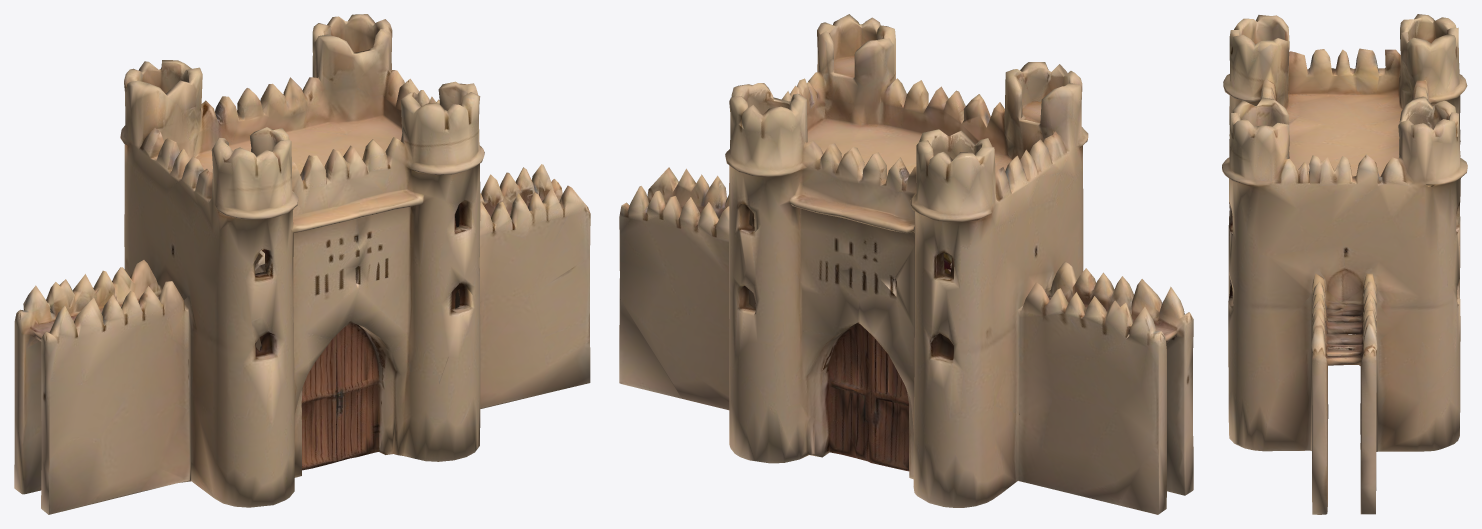
Rendered from fort_m_desert_gate.glb.
The picture shows the model from 3 angles, left to right: view 1: azimuth 30°, elevation 25°; view 2: azimuth 150°, elevation 25°; view 3: azimuth 270°, elevation 25°; orthographic projection. The views are drawn at different scales.
Parts seen in each view (by area): view 1: fort_m_desert_gate; view 2: fort_m_desert_gate; view 3: fort_m_desert_gate.
Part boxes in pixels (bbox=[...]): fort_m_desert_gate: bbox=[14, 14, 590, 514]; fort_m_desert_gate: bbox=[619, 14, 1193, 514]; fort_m_desert_gate: bbox=[1222, 14, 1467, 514].
Size of the model in its own units: 2 by 1.25 by 0.8587.
Materials: 1 (1 with a texture image).
